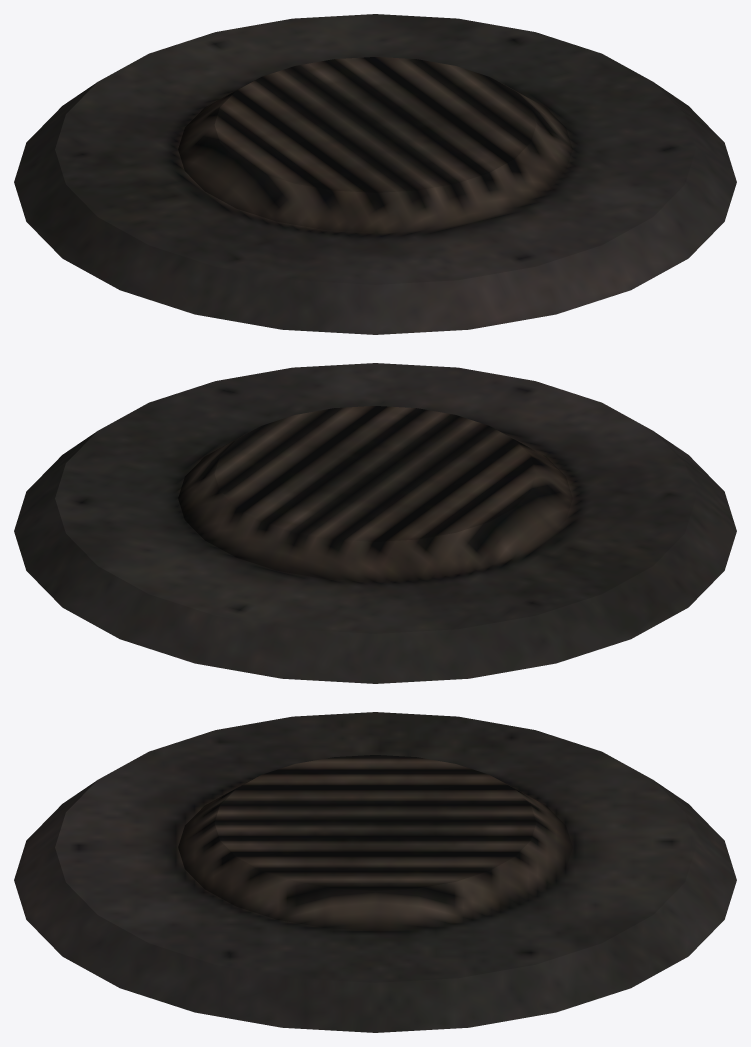
The model's file is drain_cover_3.obj.
The picture shows the model from 3 angles, top to bottom: view 1: azimuth 30°, elevation 25°; view 2: azimuth 150°, elevation 25°; view 3: azimuth 270°, elevation 25°; orthographic projection.
Visible parts, largest first — view 1: drain_cover_3; view 2: drain_cover_3; view 3: drain_cover_3.
Part boxes in pixels (x1,y1,x2,y2): drain_cover_3: (14,14,736,334); drain_cover_3: (14,363,736,683); drain_cover_3: (14,712,736,1032).
Size of the model in its own units: 0.4 by 0.035 by 0.4.
